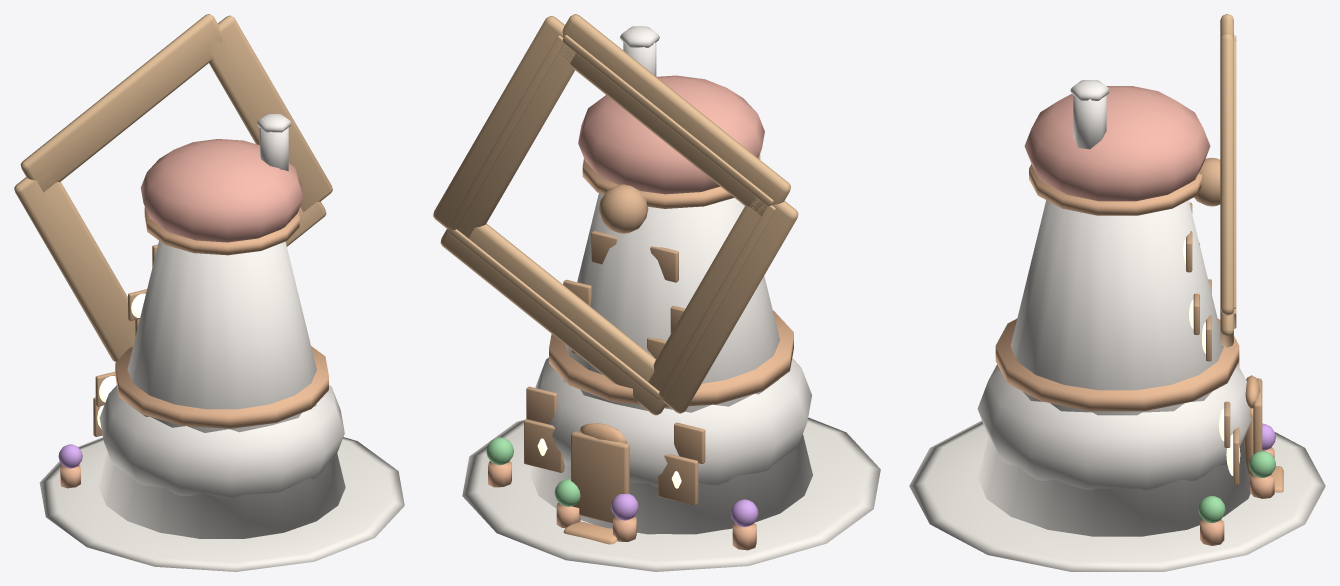
The model's file is cozy_windmill_A.glb.
3 views of the same model, side by side, from view 1: azimuth 30°, elevation 25°; view 2: azimuth 150°, elevation 25°; view 3: azimuth 270°, elevation 25° (orthographic). The views are drawn at different scales.
Visible parts, largest first — view 1: Body, Pad, Belly, Roof, Blade1, Blade2, Blade0, BandLo, CapLip, Chim, Blade3, ChimLip; view 2: Body, Pad, Belly, Roof, Blade1, Blade2, Blade0, Blade3, BandLo, DoorFrame, Rib1, Rib3 (+20 smaller); view 3: Body, Pad, Belly, Roof, BandLo, Blade0, CapLip, Chim, Hub, Rib0, ChimLip, DoorFrame (+4 smaller).
Part boxes in pixels (bbox=[...]): Body: bbox=[98, 241, 345, 538]; Pad: bbox=[39, 437, 404, 571]; Belly: bbox=[99, 385, 344, 498]; Roof: bbox=[140, 139, 303, 242]; Blade1: bbox=[20, 14, 225, 192]; Blade2: bbox=[14, 172, 135, 361]; Blade0: bbox=[206, 15, 332, 212]; BandLo: bbox=[115, 346, 328, 428]; CapLip: bbox=[144, 207, 299, 255]; Chim: bbox=[259, 127, 288, 171]; Blade3: bbox=[128, 201, 326, 345]; ChimLip: bbox=[256, 114, 291, 132]; Body: bbox=[530, 193, 812, 534]; Pad: bbox=[462, 417, 880, 571]; Belly: bbox=[535, 357, 811, 487]; Roof: bbox=[578, 75, 764, 194]; Blade1: bbox=[560, 14, 790, 215]; Blade2: bbox=[648, 197, 798, 413]; Blade0: bbox=[433, 16, 575, 238]; Blade3: bbox=[440, 221, 666, 415]; BandLo: bbox=[549, 310, 793, 407]; DoorFrame: bbox=[571, 431, 629, 523]; Rib1: bbox=[563, 35, 773, 206]; Rib3: bbox=[450, 229, 660, 399]; Body: bbox=[978, 200, 1250, 536]; Pad: bbox=[909, 420, 1325, 571]; Belly: bbox=[977, 364, 1251, 490]; Roof: bbox=[1024, 86, 1210, 201]; BandLo: bbox=[995, 318, 1239, 411]; Blade0: bbox=[1220, 33, 1233, 315]; CapLip: bbox=[1029, 164, 1202, 215]; Chim: bbox=[1073, 95, 1106, 149]; Hub: bbox=[1194, 158, 1220, 206]; Rib0: bbox=[1234, 41, 1236, 308]; ChimLip: bbox=[1070, 80, 1109, 100]; DoorFrame: bbox=[1253, 378, 1262, 475].
Size of the model in its own units: 2.71 by 3.63 by 2.73.
